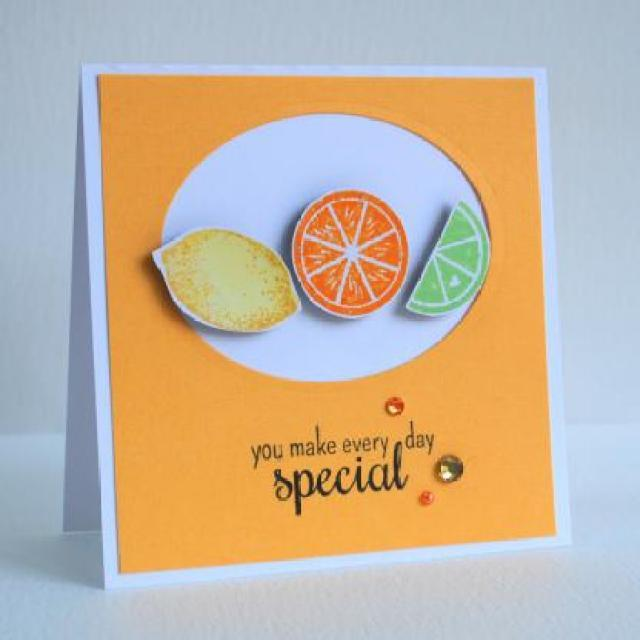Lemon: (152, 227, 302, 336), (289, 191, 411, 317), (408, 195, 492, 318)
